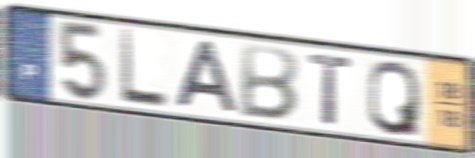5: (54, 19, 110, 105)
A: (172, 38, 241, 117)
B: (236, 41, 302, 124)
L: (118, 26, 171, 111)
Q: (365, 58, 422, 139)
T: (306, 51, 355, 128)
